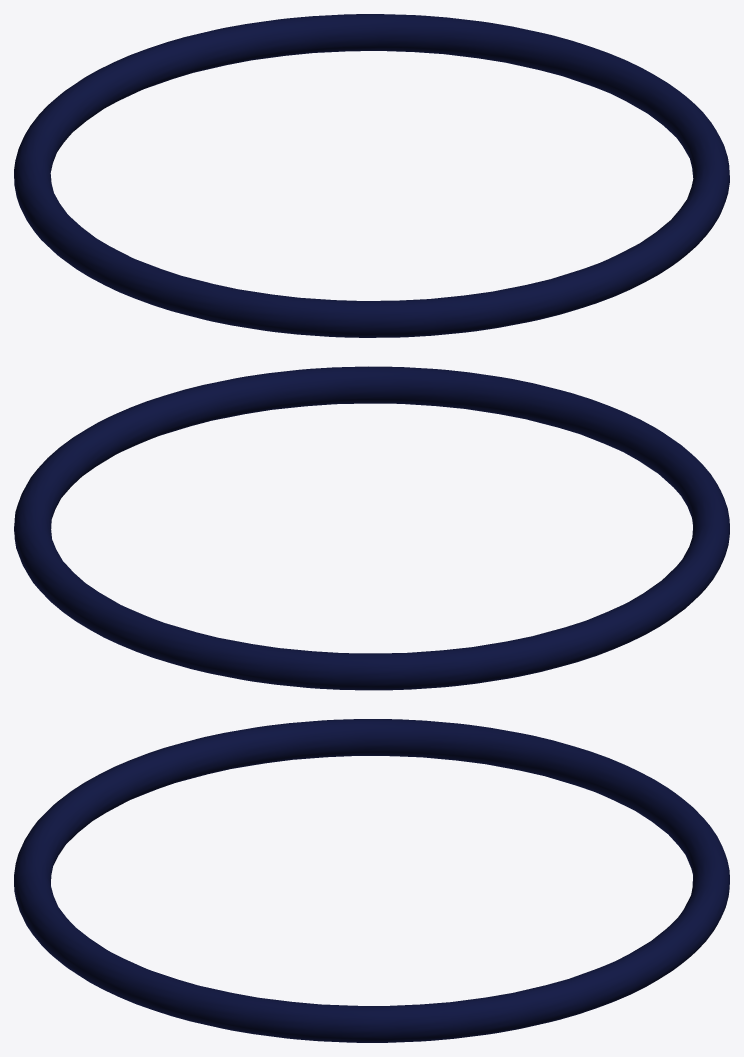
3 renders of one model, top to bottom at view 1: azimuth 30°, elevation 25°; view 2: azimuth 150°, elevation 25°; view 3: azimuth 270°, elevation 25°, orthographic.
Parts seen in each view (by area): view 1: Torus_1; view 2: Torus_1; view 3: Torus_1.
Part boxes in pixels (x1,y1,x2,y2): Torus_1: (14, 14, 729, 337); Torus_1: (14, 366, 729, 690); Torus_1: (14, 719, 729, 1042).
Size of the model in its own units: 54.56 by 54.56 by 2.82.
